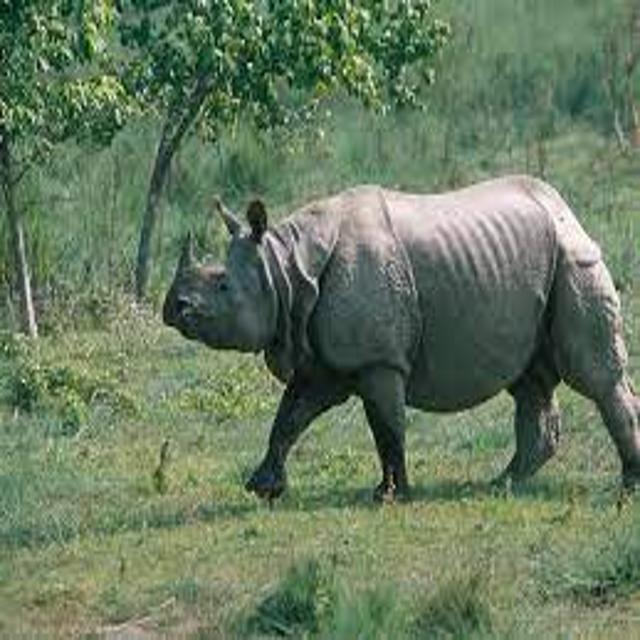rhino: (120, 121, 640, 532)
